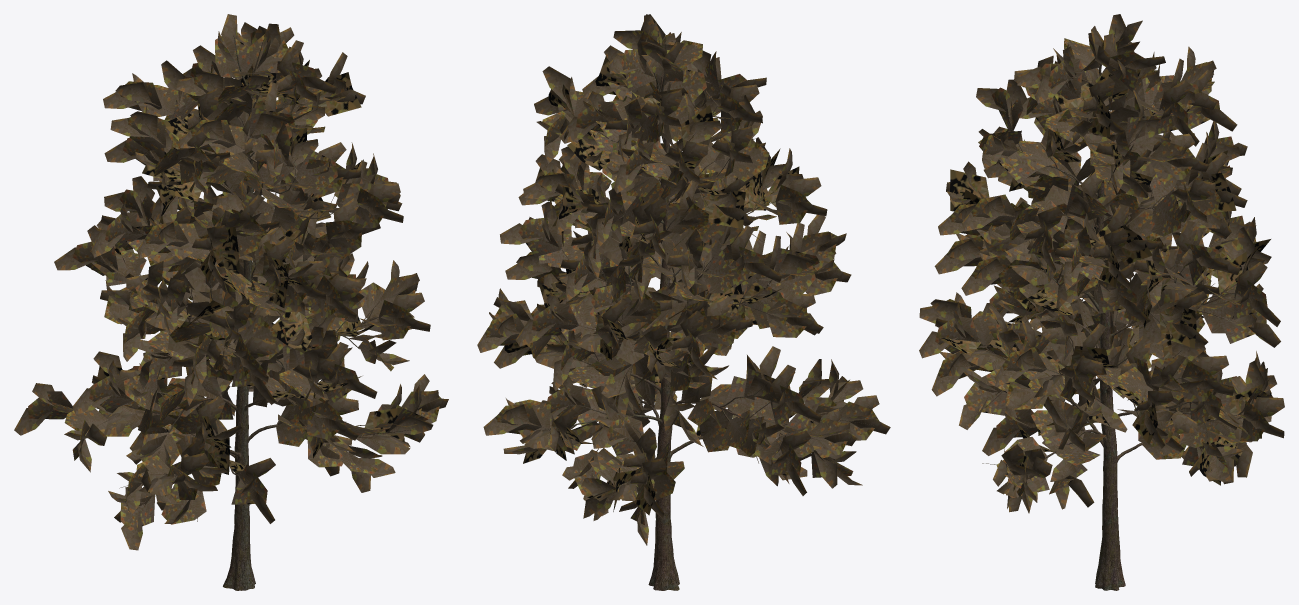
The model's file is SM_Alder_Fall_01a.fbx.
The picture shows the model from 3 angles, left to right: view 1: azimuth 30°, elevation 25°; view 2: azimuth 150°, elevation 25°; view 3: azimuth 270°, elevation 25°; orthographic projection.
Visible parts, largest first — view 1: SM_Alder_Fall_01a_LOD0; view 2: SM_Alder_Fall_01a_LOD0; view 3: SM_Alder_Fall_01a_LOD0.
Boxes of the visible parts, x1,y1,x2,y2 form: SM_Alder_Fall_01a_LOD0: (14,14,448,590); SM_Alder_Fall_01a_LOD0: (477,14,890,590); SM_Alder_Fall_01a_LOD0: (919,14,1284,590).
Bounding box in the file's own units: 1786 × 1566 × 2689.
